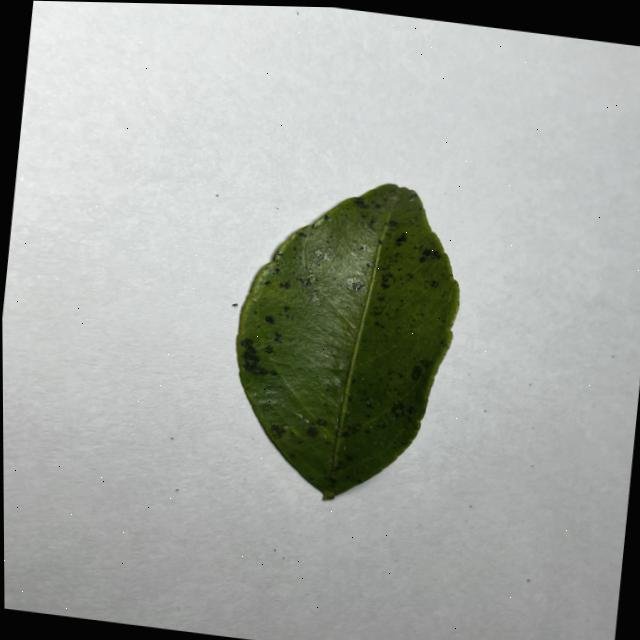sooty_mold: (235, 184, 457, 499)
